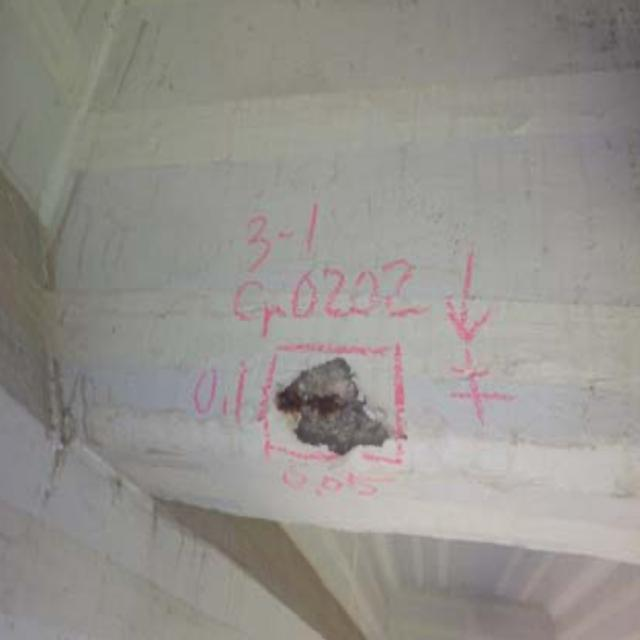spalling: (269, 350, 394, 463)
